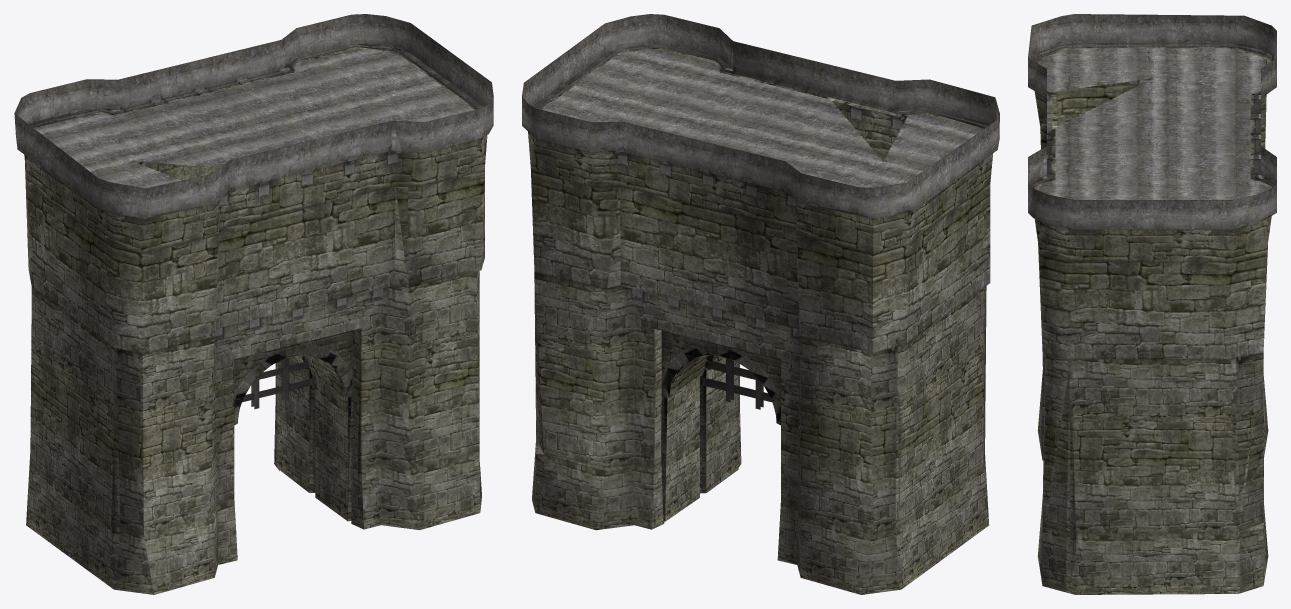
File: castle_gate_LOD2.fbx
3 views of the same model, side by side, from view 1: azimuth 30°, elevation 25°; view 2: azimuth 150°, elevation 25°; view 3: azimuth 270°, elevation 25° (orthographic). The views are drawn at different scales.
Visible parts, largest first — view 1: castle_gate_LOD2; view 2: castle_gate_LOD2; view 3: castle_gate_LOD2.
Part boxes in pixels (box(x1,y1,x2,y2)): castle_gate_LOD2: box(14, 14, 493, 594); castle_gate_LOD2: box(522, 14, 999, 594); castle_gate_LOD2: box(1028, 14, 1276, 594).
Bounding box in the file's own units: 2243 × 2244 × 1268.
